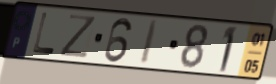1: (220, 25, 240, 75)
6: (103, 16, 133, 64)
8: (178, 23, 210, 70)
I: (138, 18, 161, 67)
L: (31, 11, 57, 56)
Z: (57, 12, 99, 60)
